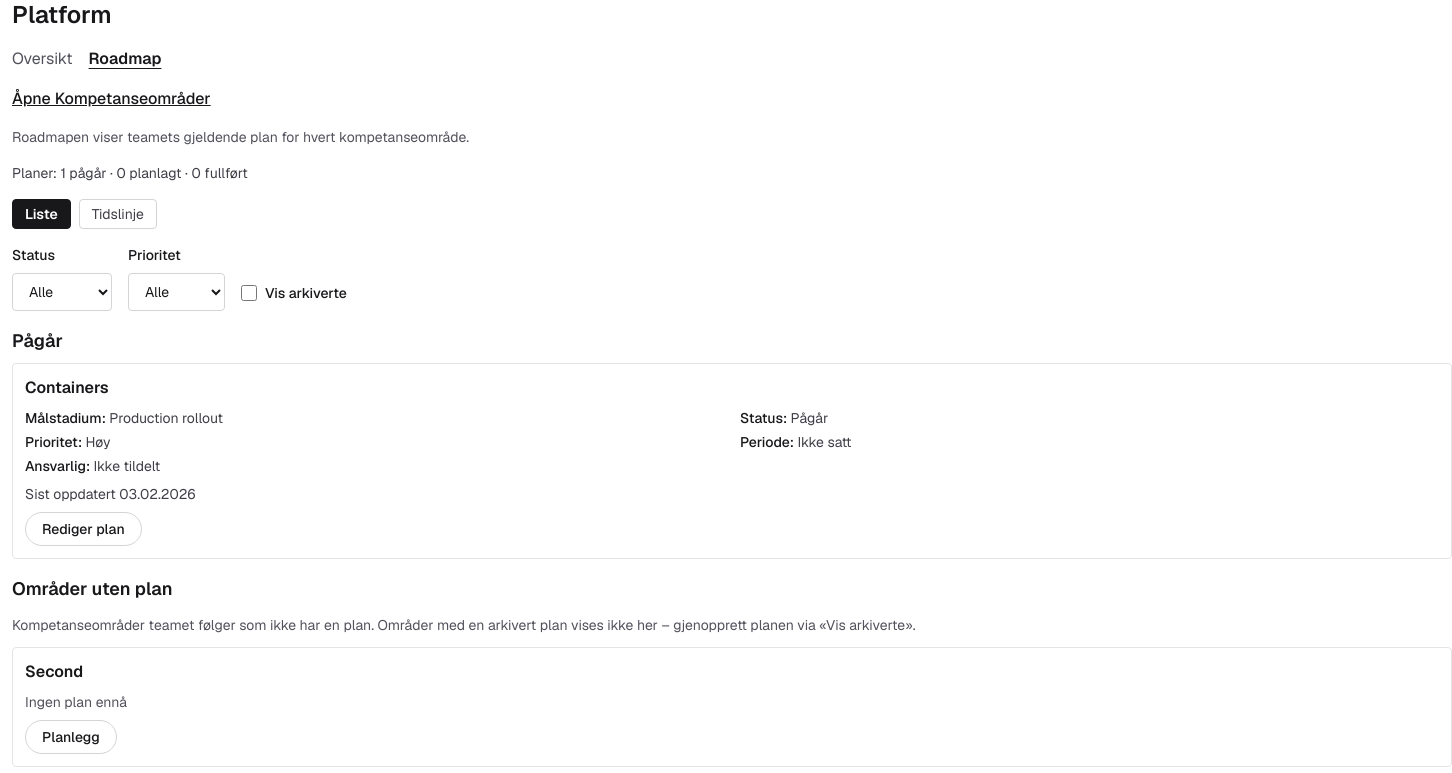
Test case: Roadmap page editing — failures › keeps the canonical presentation, shows the editor error and does not refetch on persistence_failed
Expected: the heading "Containers" is shown, [25, 377, 109, 398]
Click the button with aria-label "Rediger plan – Containers": coordinates (83, 529) [25, 512, 142, 546]
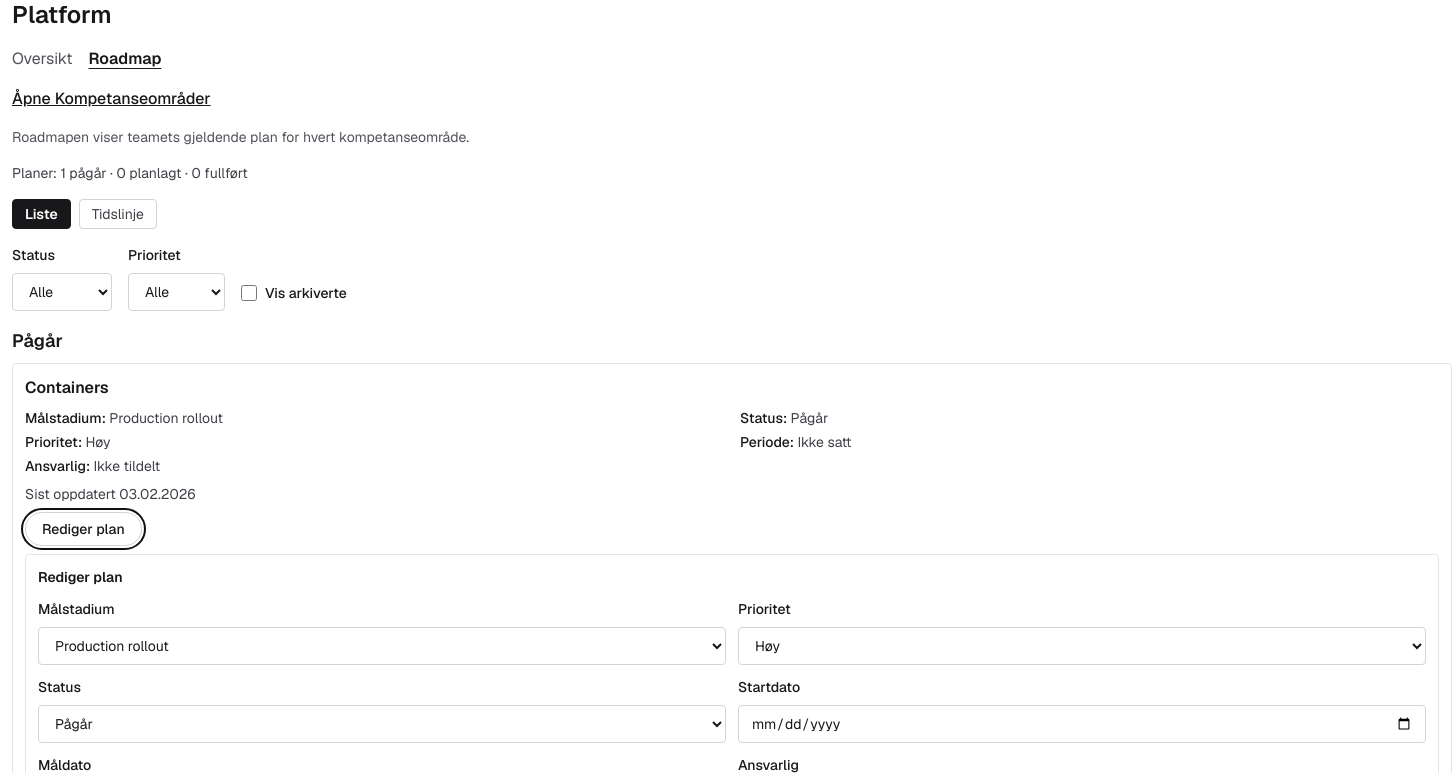
Select "Lav" in the dropdown labelled "Prioritet" below "Periode": coordinates (1082, 646) [738, 627, 1426, 665]
(page scrolled)
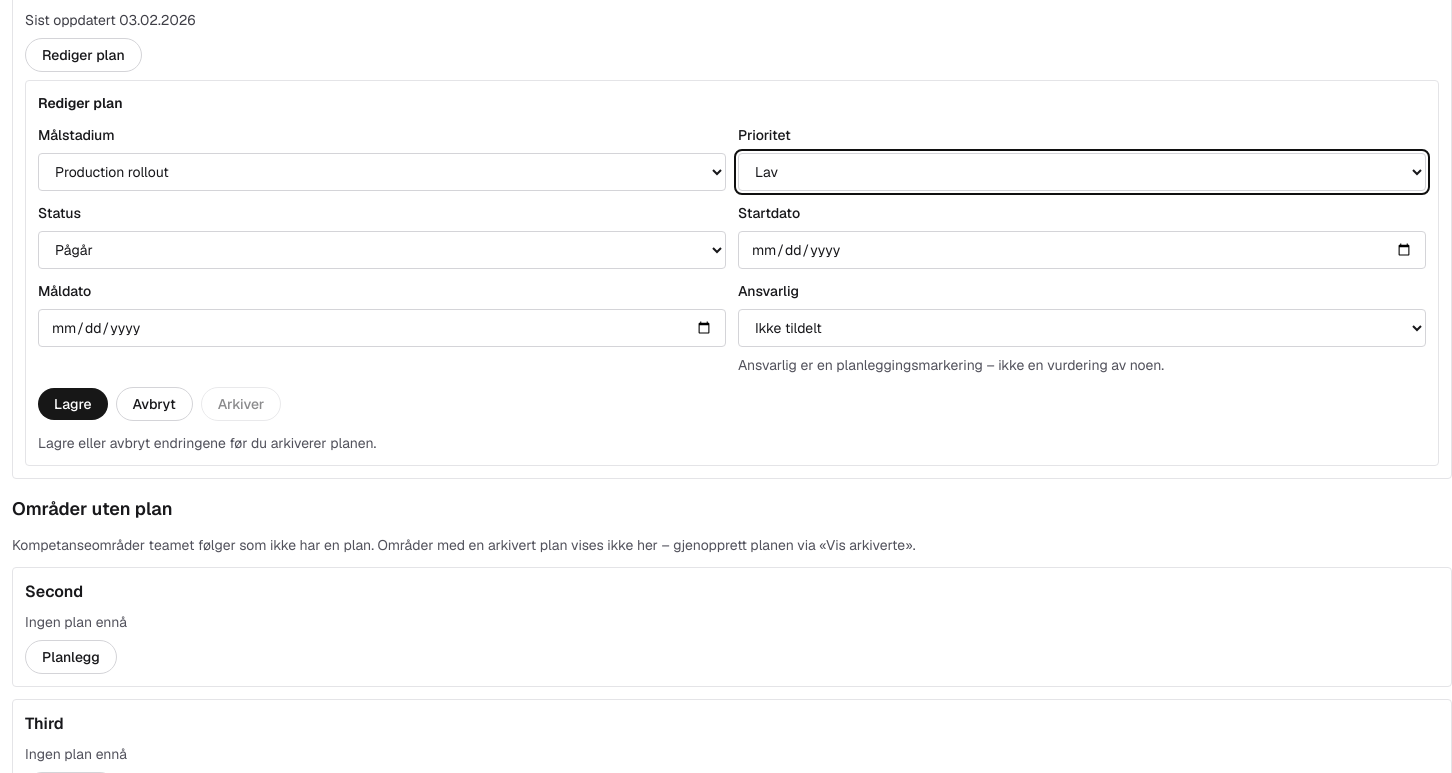
Click the button "Lagre": coordinates (73, 404) [38, 388, 108, 420]
(page scrolled)
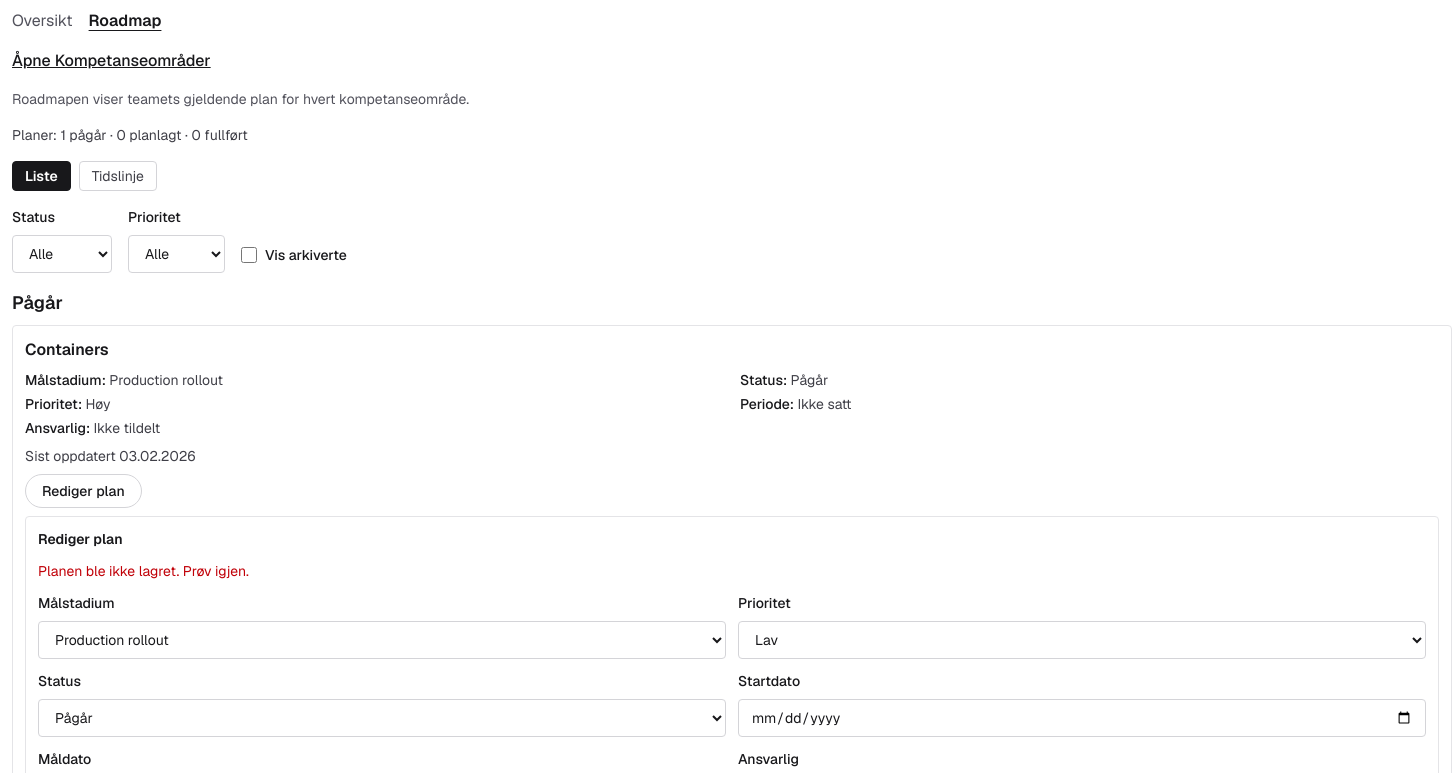
Expected: the text "Høy" is shown, [86, 395, 110, 413]
Expected: the text "Planen ble ikke lagret. Prøv igjen." is shown, [38, 562, 249, 580]
